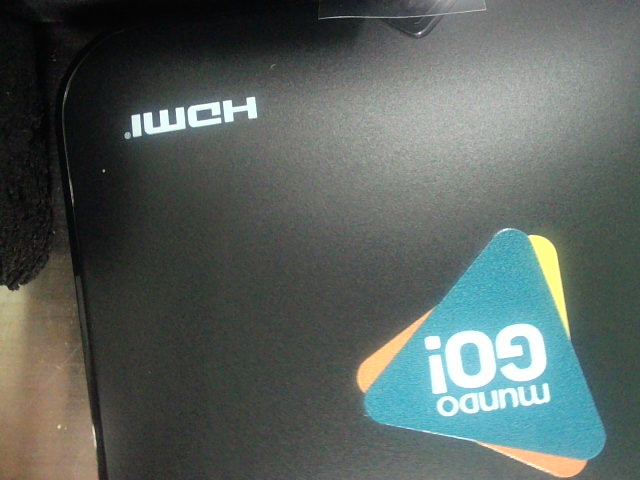AP_IPGMundoGO: (328, 223, 612, 479)
